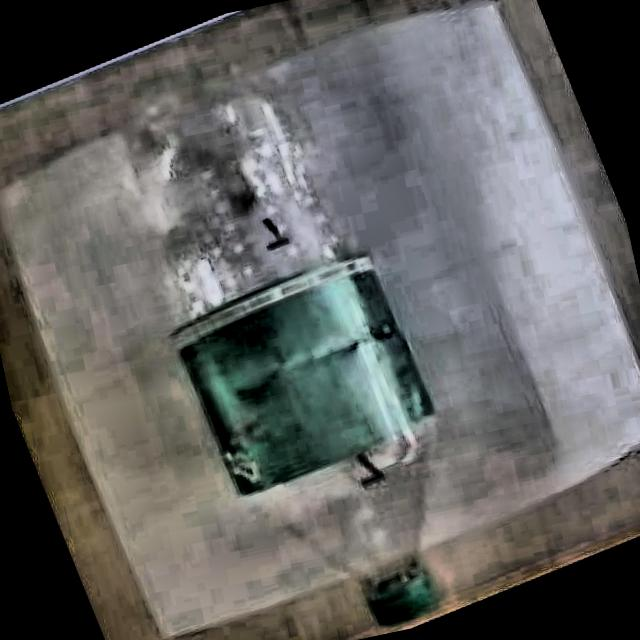plastic bottle: (100, 59, 434, 624)
